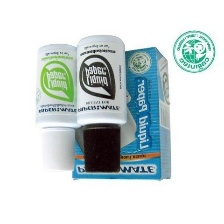book: (68, 44, 173, 183)
correction_fluid: (72, 32, 129, 175), (31, 41, 84, 174)
